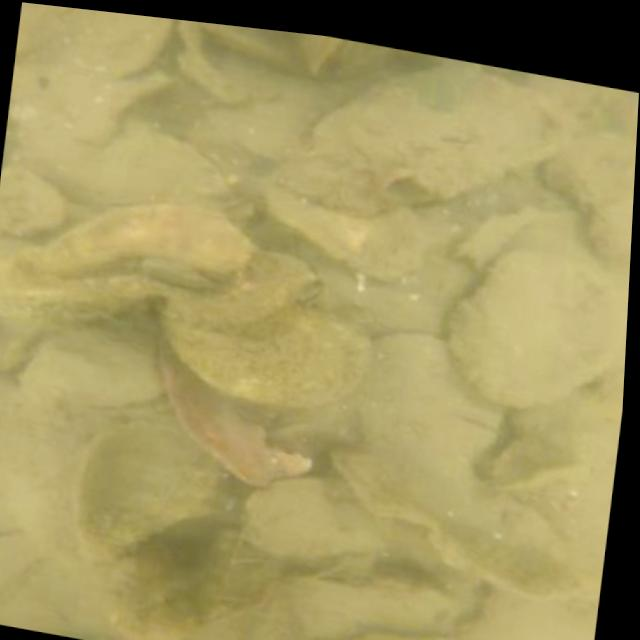Oyster-Indeterminate: (309, 64, 578, 202), (445, 247, 621, 407), (252, 477, 477, 593), (0, 389, 123, 572), (163, 301, 373, 408), (359, 337, 497, 466), (25, 308, 164, 409), (171, 252, 328, 330), (588, 199, 633, 266), (139, 257, 219, 288)
